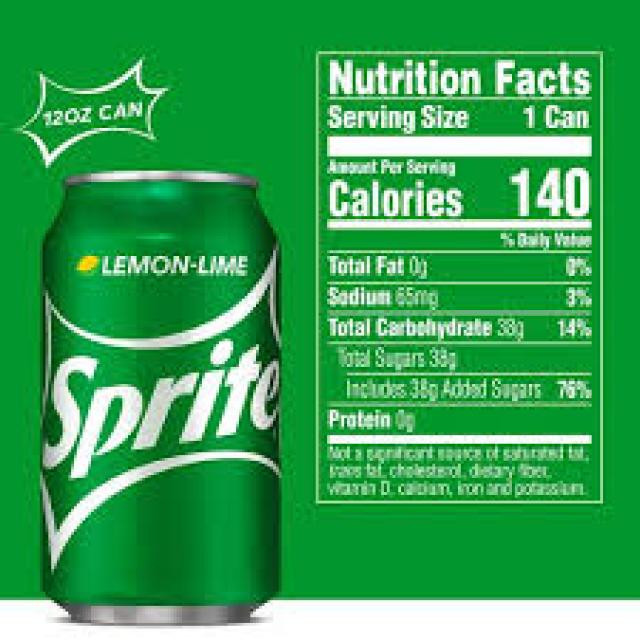Cans: (37, 162, 287, 623)
